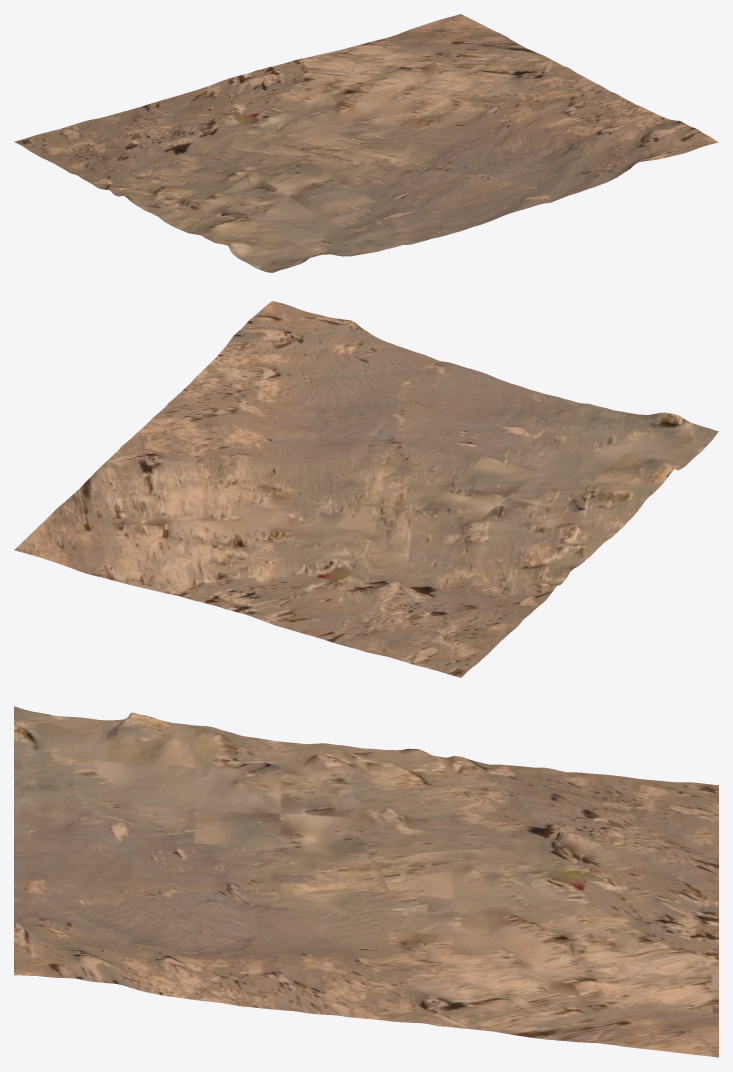
3 views of the same model, one above another, from view 1: azimuth 30°, elevation 25°; view 2: azimuth 150°, elevation 25°; view 3: azimuth 270°, elevation 25° (orthographic). The views are drawn at different scales.
Size of the model in its own units: 8.36 by 1.42 by 8.36.
Materials: 2 (2 with a texture image).
